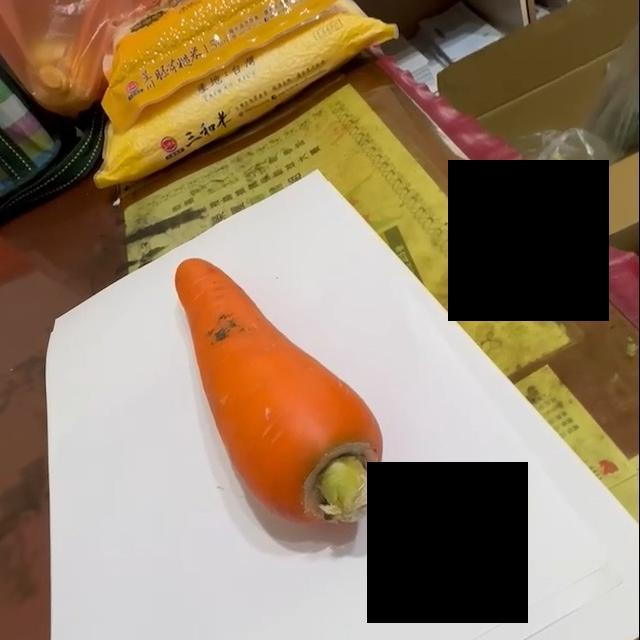carrot: (176, 259, 388, 533)
